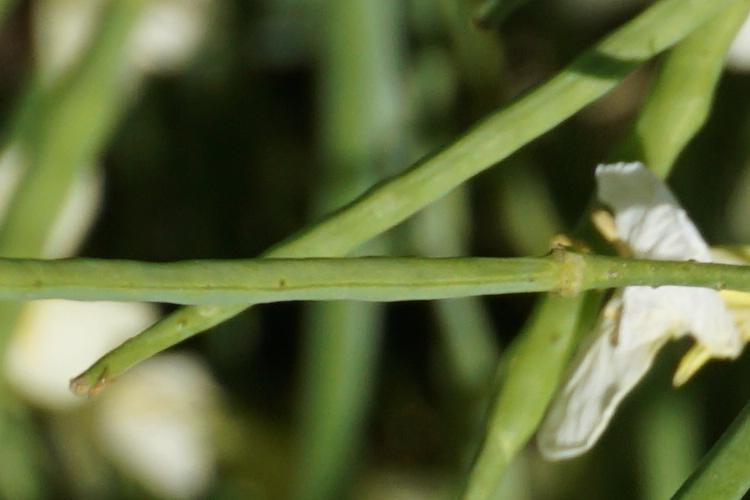white: (502, 149, 746, 475)
